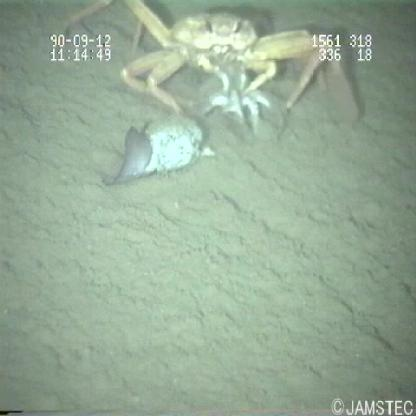Bio: (56, 1, 362, 188)
